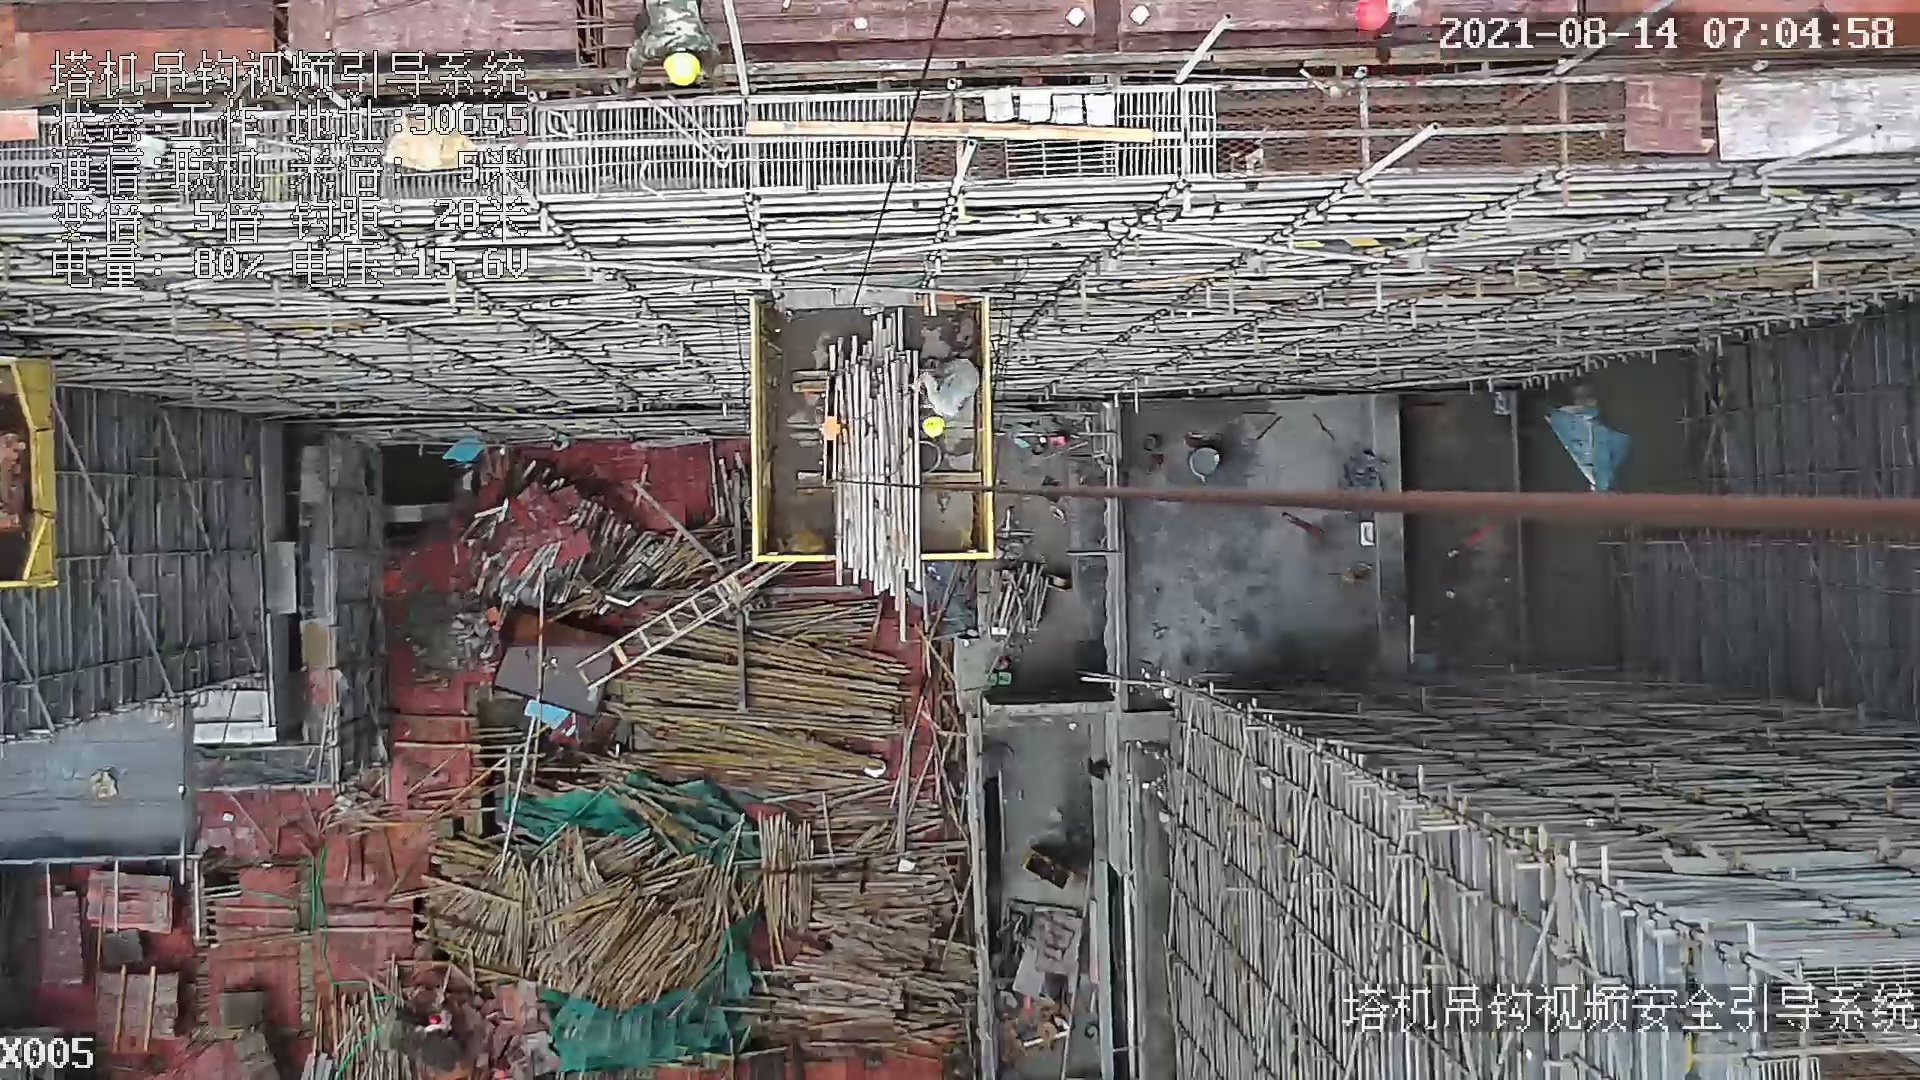helmet: (660, 48, 706, 90), (922, 416, 946, 437)
hook: (813, 376, 851, 485)
person: (623, 1, 724, 100), (918, 358, 992, 439)
